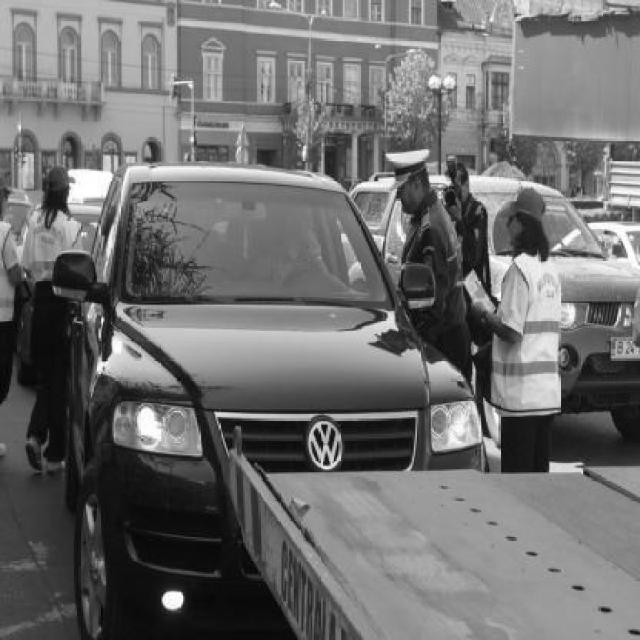car: (57, 160, 497, 626)
